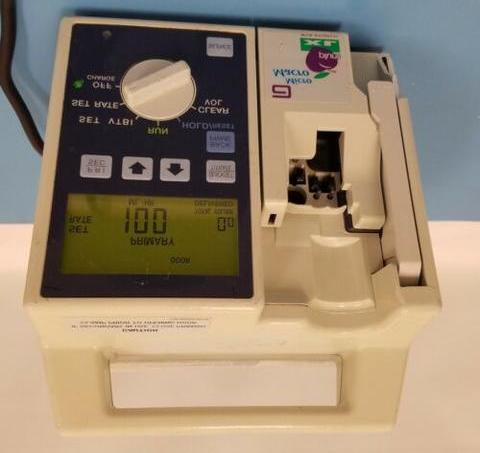plumxl1: (25, 8, 445, 435)
